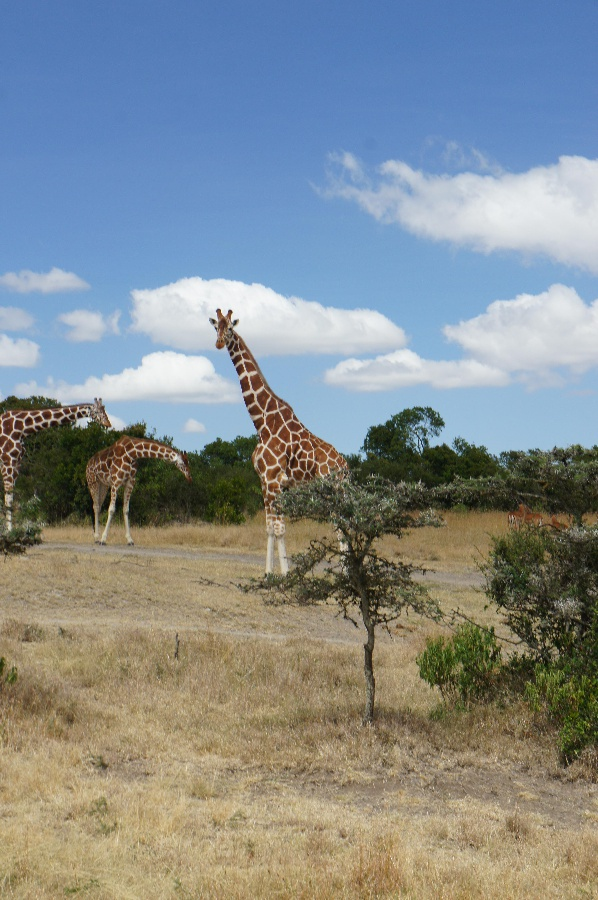giraffe: (202, 301, 382, 586), (0, 390, 112, 555), (81, 428, 193, 569)
